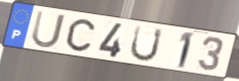1: (178, 31, 196, 70)
3: (197, 35, 226, 73)
4: (97, 21, 125, 59)
C: (64, 18, 97, 53)
U: (29, 9, 67, 50), (128, 25, 165, 63)
